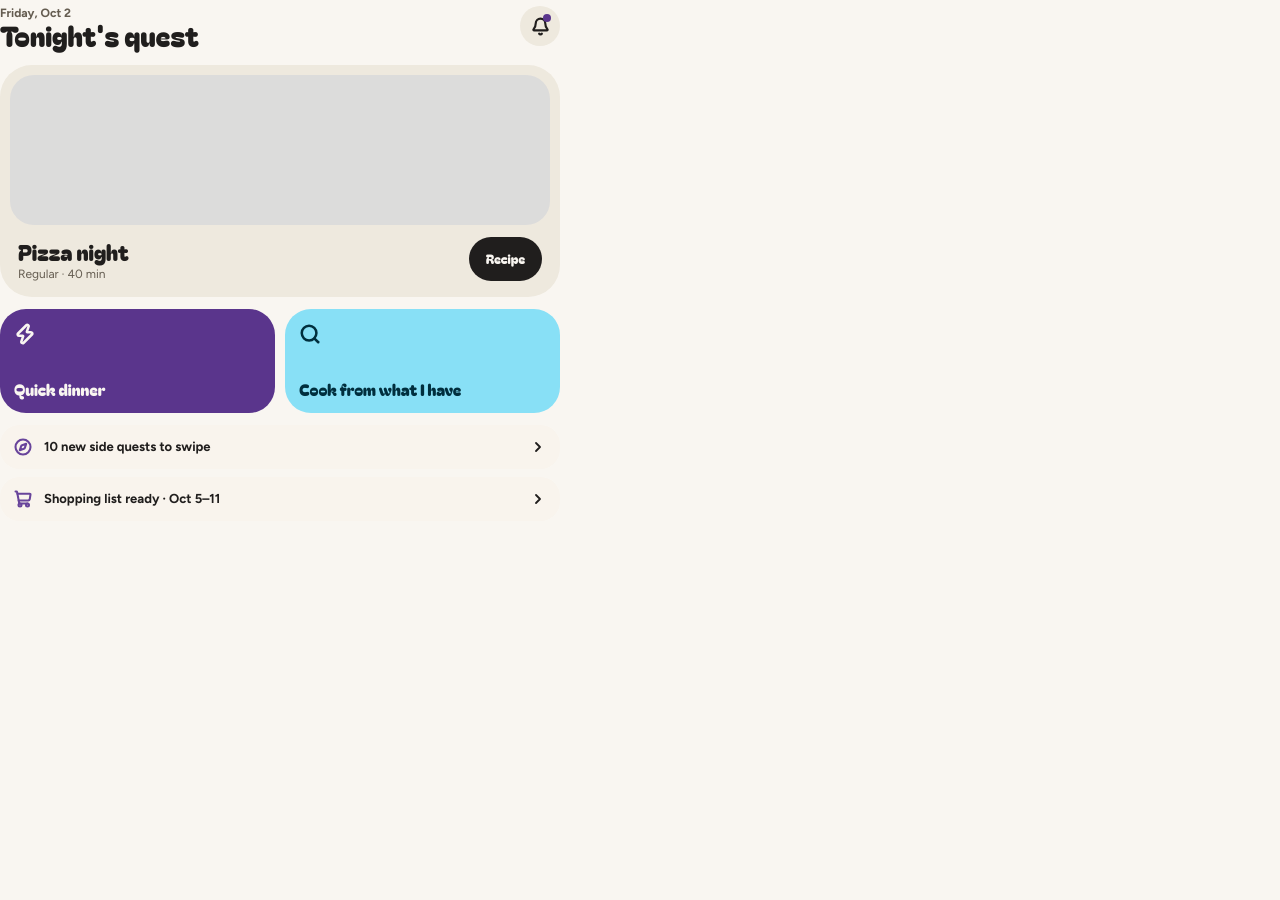
it: Recent updates sheet › lists the updates newest first with how long ago each came
The image size is (1280, 900).
Click the button named "Recent updates, unread" at (540, 26), box [518, 4, 562, 48]
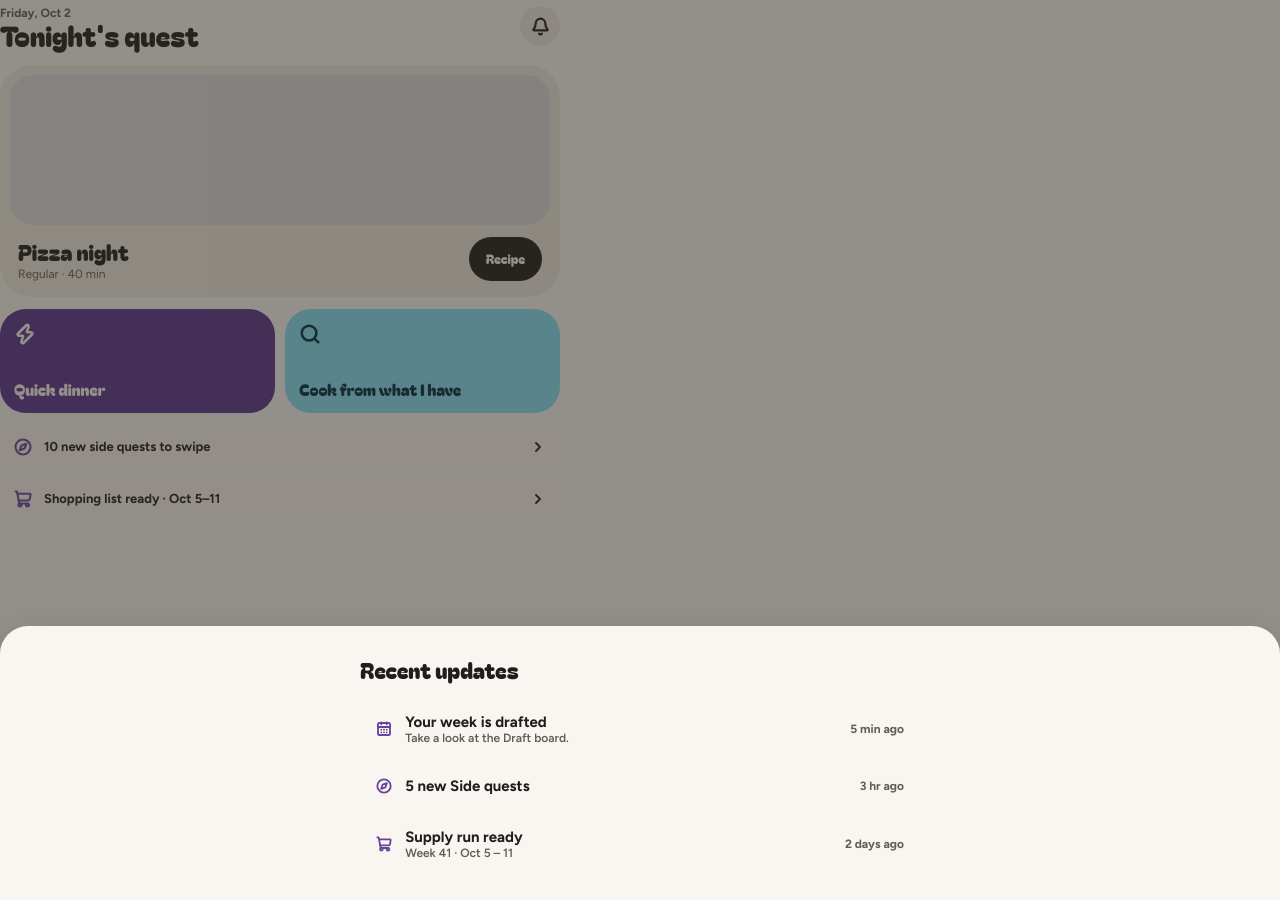
Expected: the list item that starts with "Your week is drafted" is shown, [360, 699, 837, 759]
Expected: the list item that starts with "Your week is drafted" shows "Take a look at the Draft board.", [360, 699, 837, 759]
Expected: the list item that starts with "Your week is drafted" shows "5 min ago", [850, 722, 904, 736]
